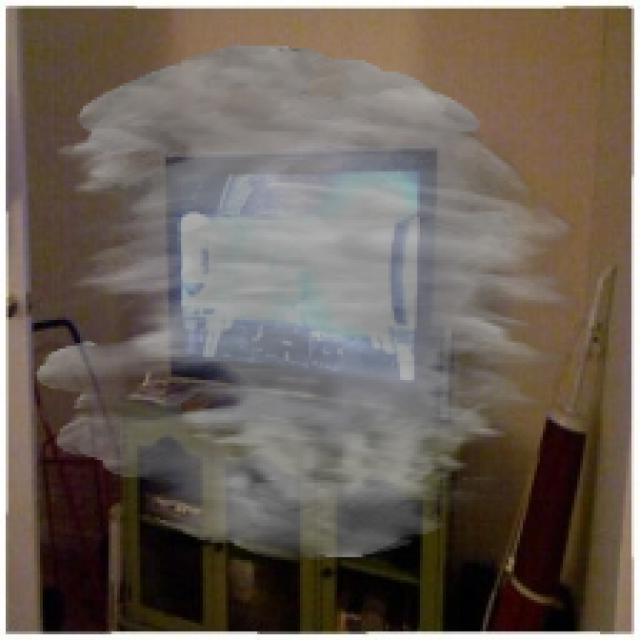smoke: (34, 46, 580, 560)
